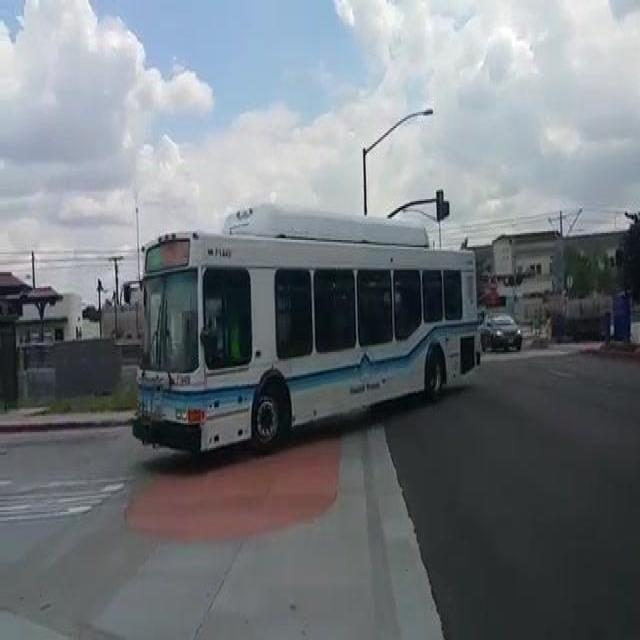bus: (130, 215, 485, 468)
